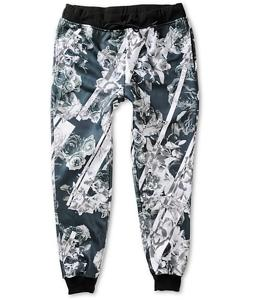C_W_pants: (46, 1, 200, 296)
